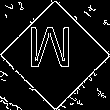M_S: (32, 30, 78, 80)
